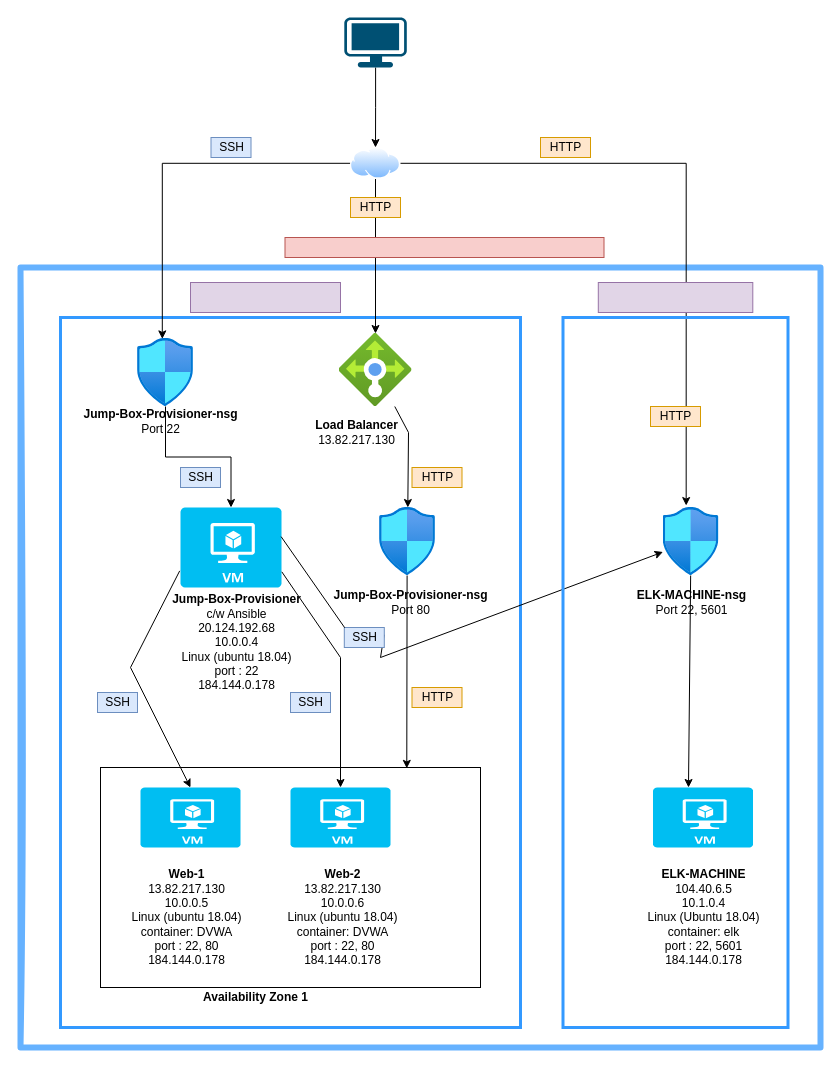
This 840x1067 diagram has some shape labels left out. Here are the shapes that lost their labels. From the top down, the box of each, then its label:
(284, 236, 604, 258): James_Team (Azure Resource Group)
(190, 282, 340, 312): JPSAMnet 10.0.0.0/16 (Azure Virtual Network)
(597, 282, 753, 312): ELK-NET 10.1.0.0/16 (Azure Virtual Network)
